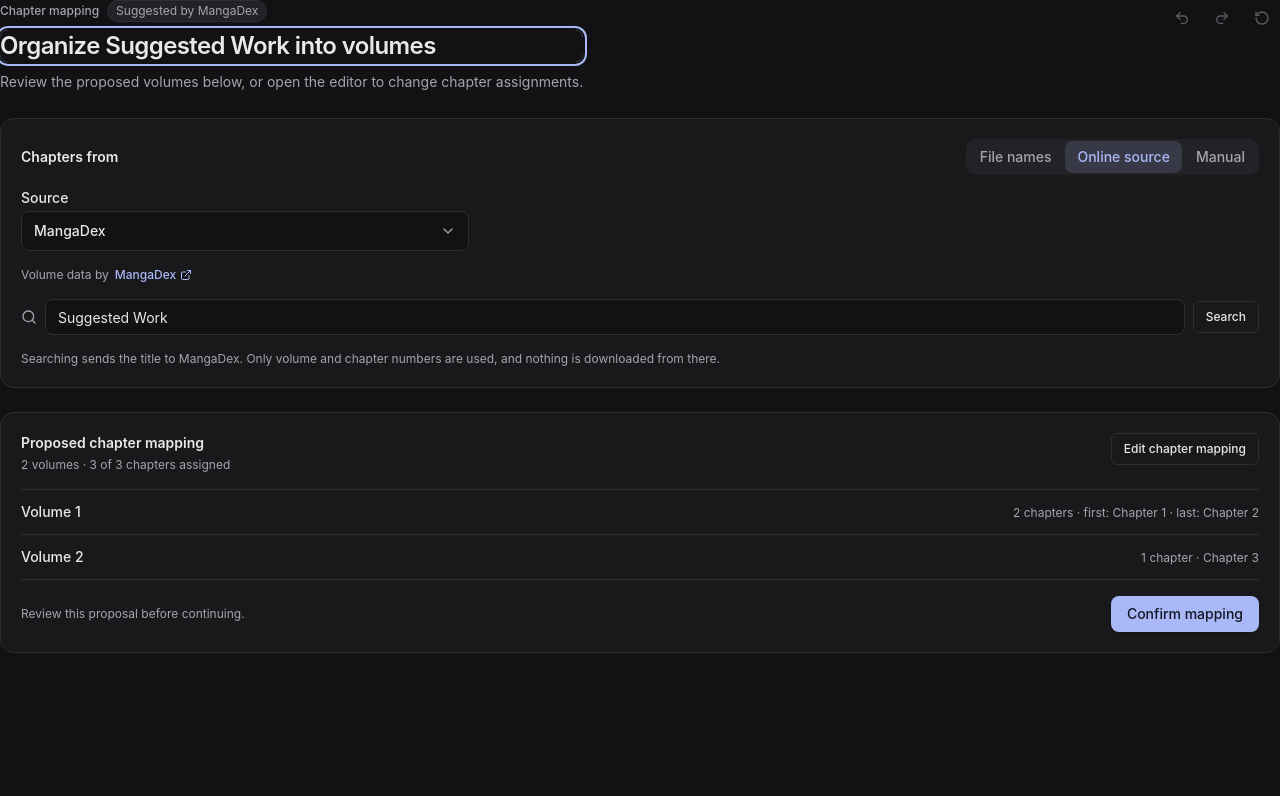
Test case: mapping editor › edits a provider suggestion with the same controls and supports undo and redo
Expected: the text "Suggested by MangaDex" is shown, [107,0,267,22]
Expected: the dropdown named "Source" reads "MangaDex", [21,211,469,251]
Click the button "Edit chapter mapping". click: coordinates (1185, 449)
box: [1111,433,1259,465]
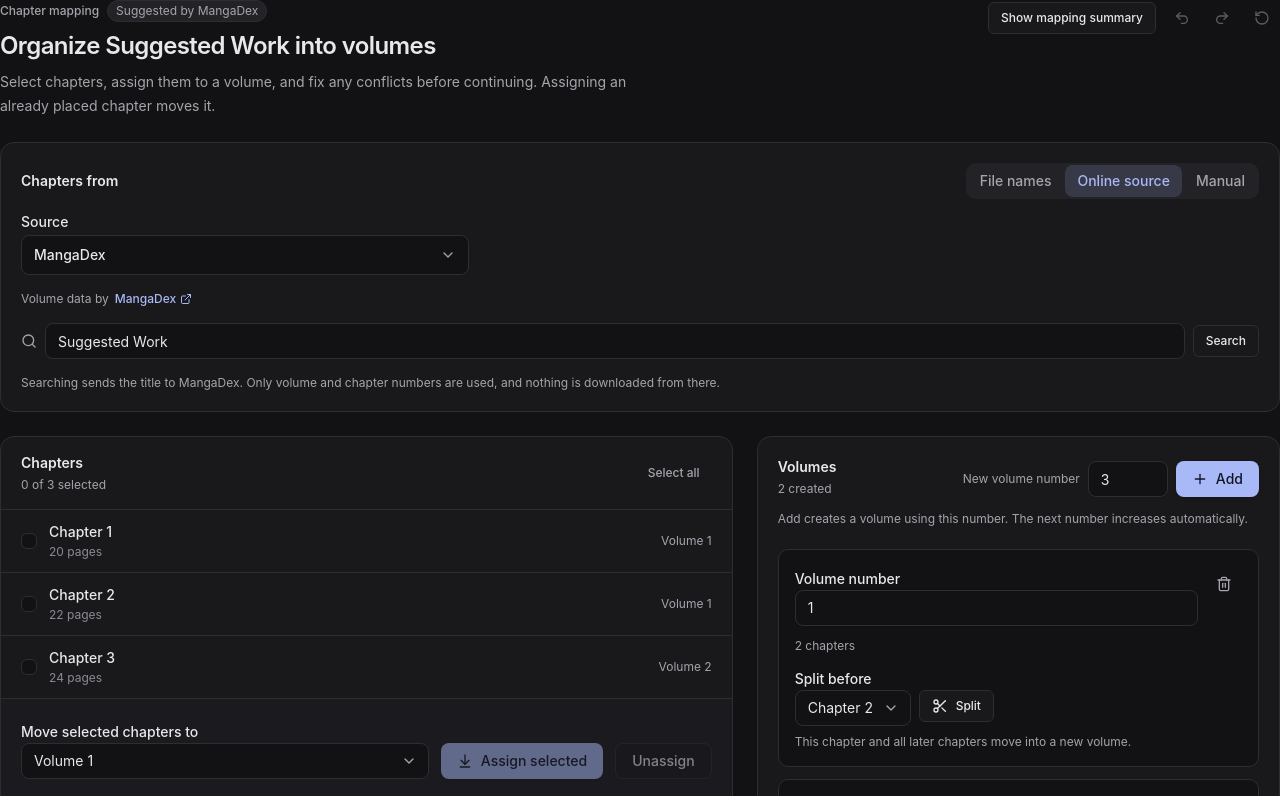
Click the checkbox named "Select Chapter 2". click: coordinates (29, 604)
box: [21,596,37,612]
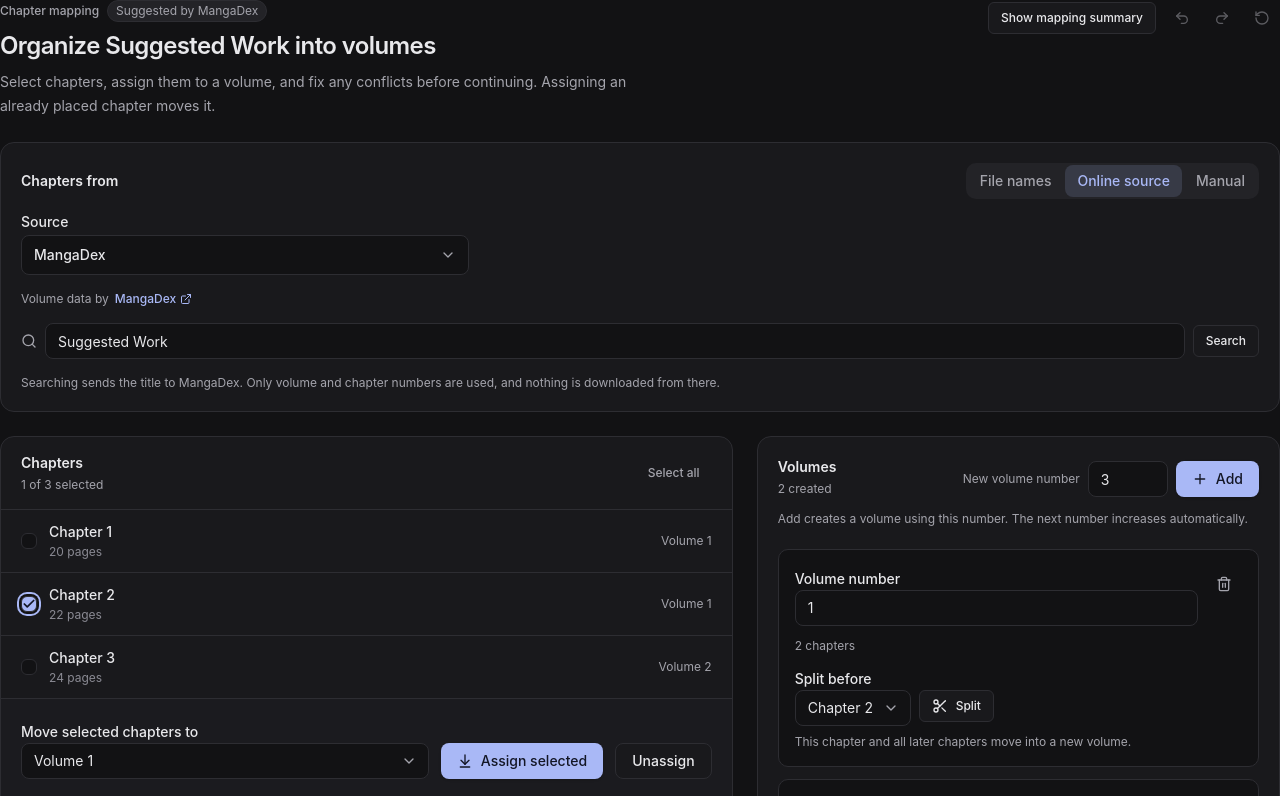
Select "Volume 2" in the dropdown labelled "Move selected chapters to". click: coordinates (225, 761)
box: [21,743,429,779]
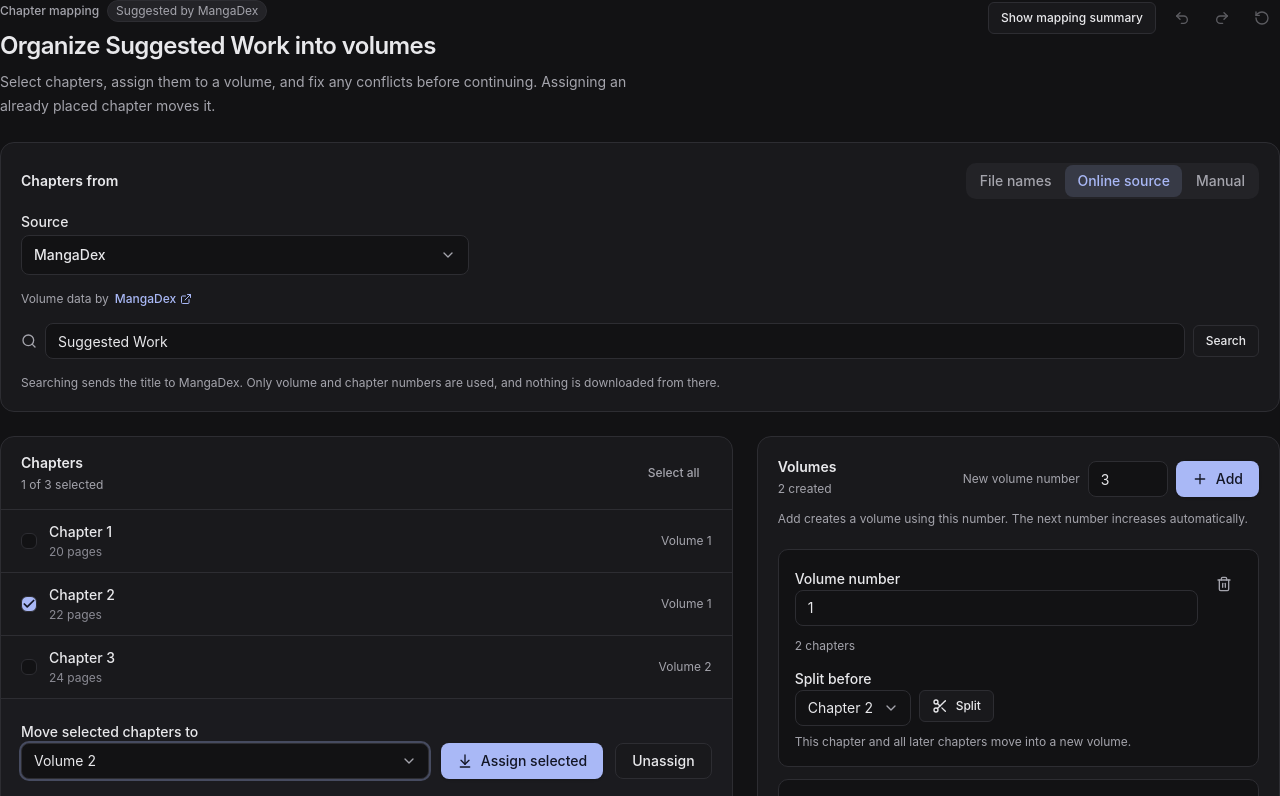
Click the button "Assign selected". click: coordinates (522, 761)
box: [441,743,603,779]
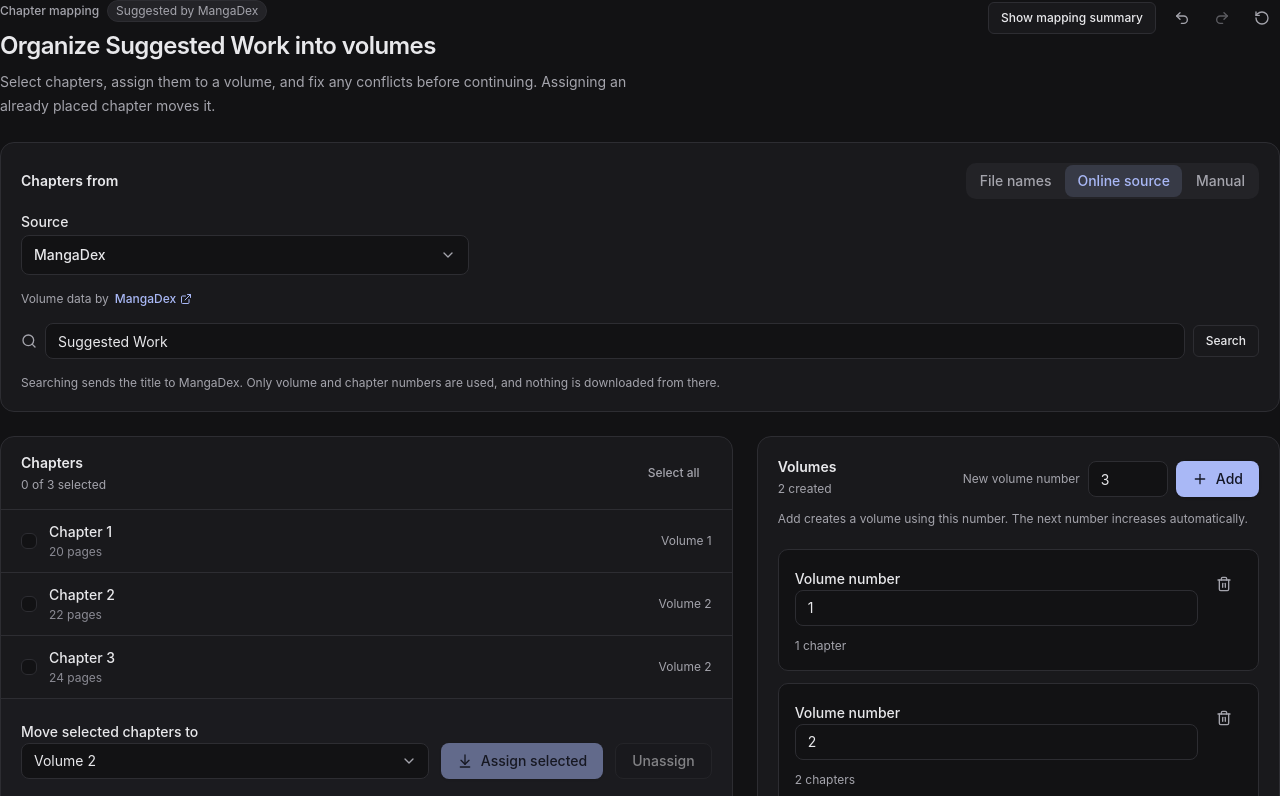
Expected: the element named "Select Chapter 2" is shown, [1,573,732,636]
Expected: the text "Volume 2" in the row of "Chapter 2" is shown, [659,596,712,611]
Click the button named "Undo last mapping edit". click: coordinates (1182, 18)
box: [1164,0,1200,36]
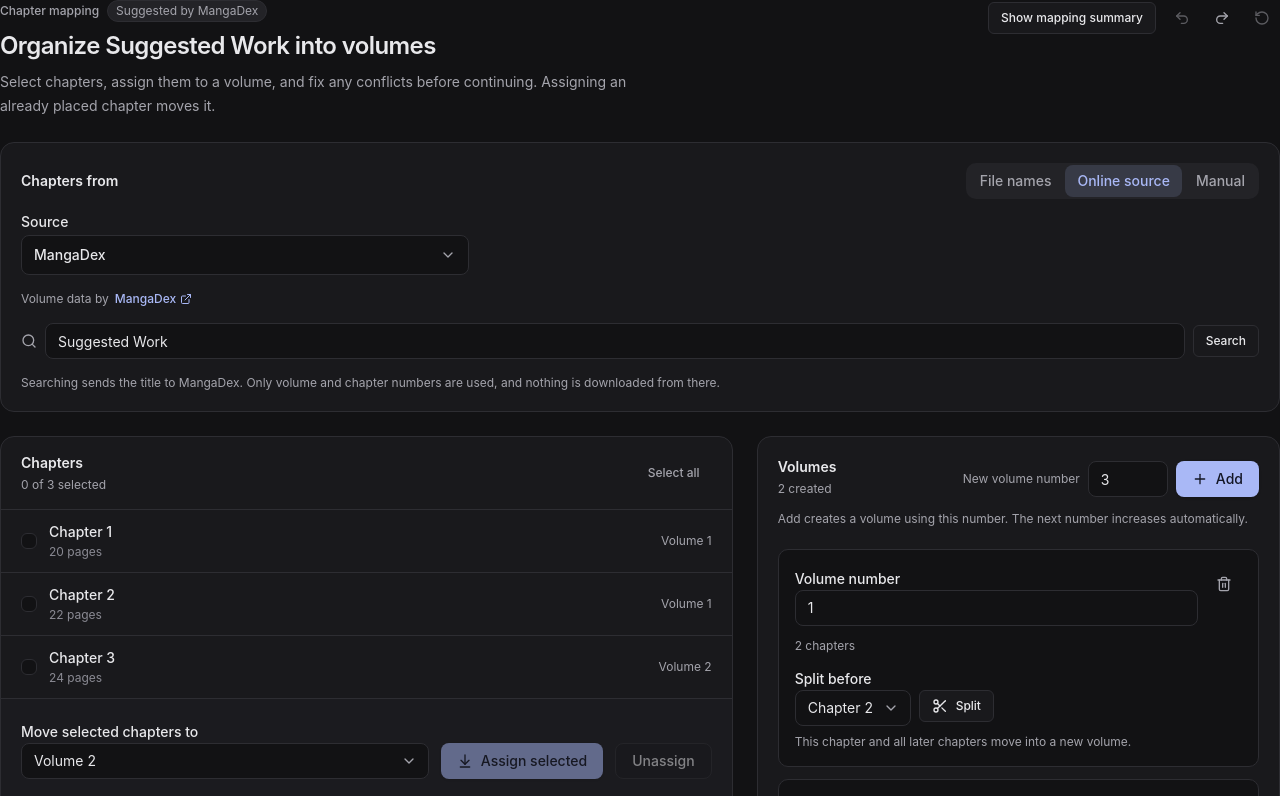
Expected: the text "Volume 1" in the row of "Chapter 2" is shown, [661,596,712,611]
Click the button named "Redo last mapping edit". click: coordinates (1222, 18)
box: [1204,0,1240,36]
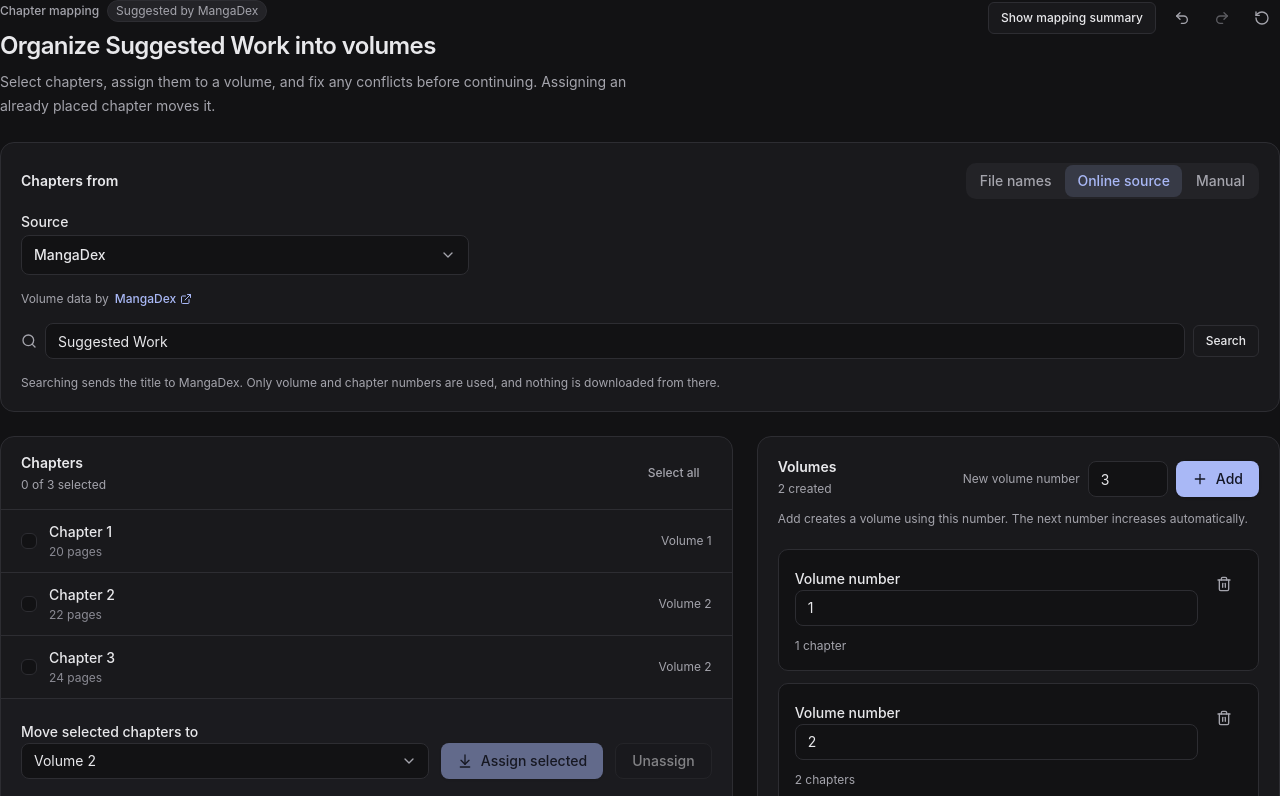
Expected: the text "Volume 2" in the row of "Chapter 2" is shown, [659,596,712,611]
